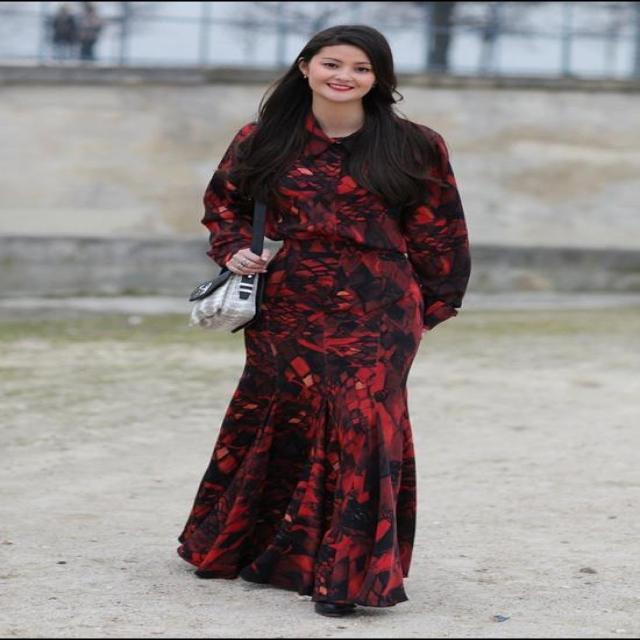dress: (176, 119, 469, 607)
